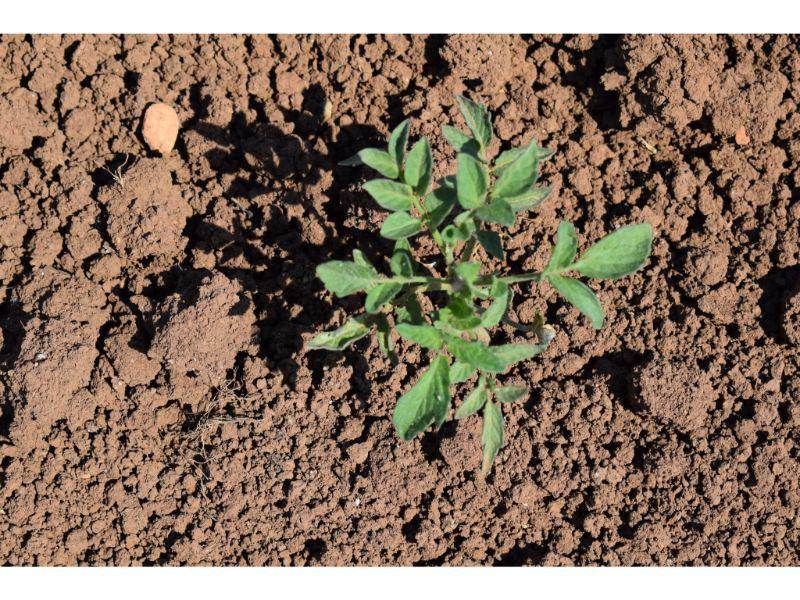tomato: (305, 92, 654, 473)
